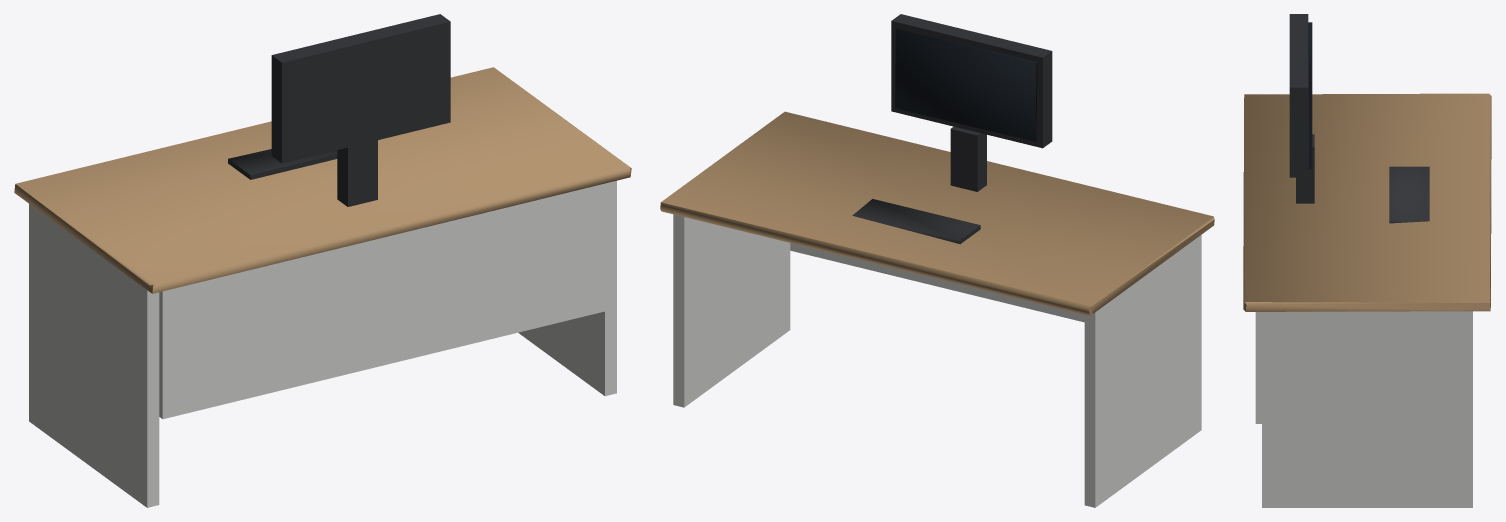
The model's file is desk_LOD1.glb.
The picture shows the model from 3 angles, left to right: view 1: azimuth 30°, elevation 25°; view 2: azimuth 150°, elevation 25°; view 3: azimuth 270°, elevation 25°; orthographic projection. The views are drawn at different scales.
Parts seen in each view (by area): view 1: Body_LOD1; view 2: Body_LOD1; view 3: Body_LOD1.
Part boxes in pixels (x1,y1,x2,y2): Body_LOD1: [14, 14, 631, 507]; Body_LOD1: [660, 14, 1214, 507]; Body_LOD1: [1243, 14, 1491, 507].
Bounding box in the file's own units: 1.6 × 1.26 × 0.8.
